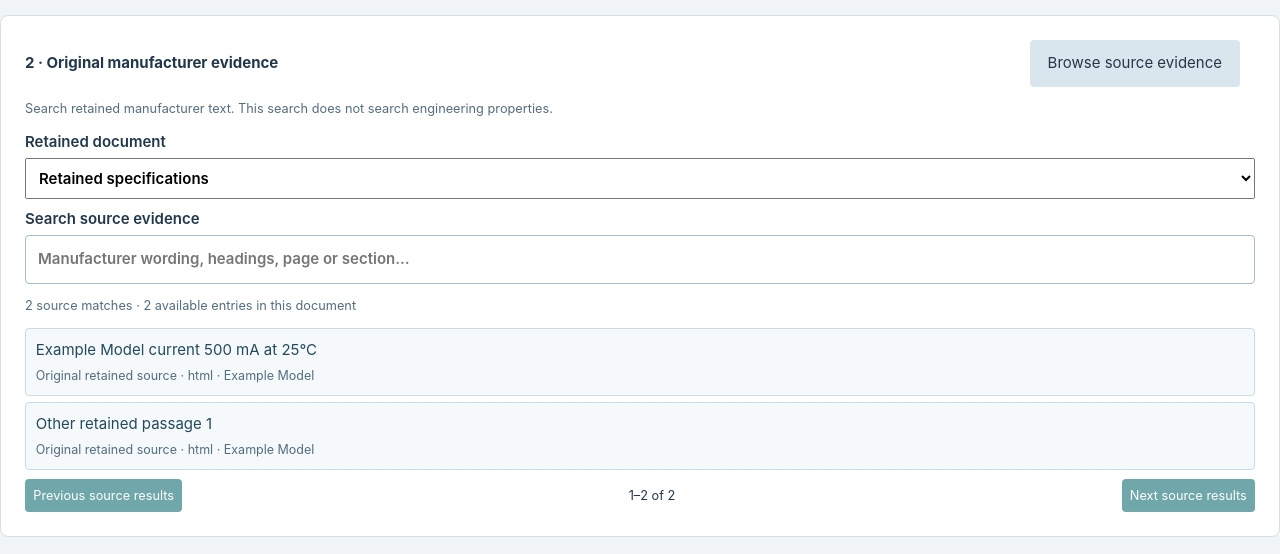
Test: retained source navigator › searches the selected document and shows positive and empty source-specific results
Check: the text "2 source matches · 2 available entries in this document" is shown, box [25,298,356,313]
Type "500 mA" into the search field labelled "Search source evidence" at (640,259), box [25,235,1255,284]
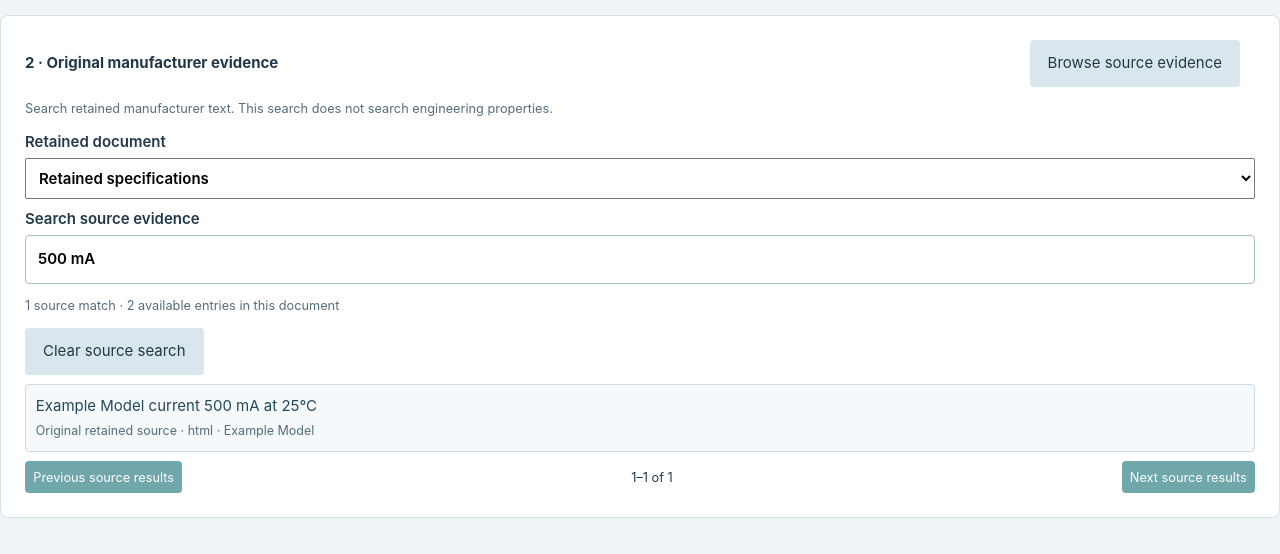
Check: the text "1 source match · 2 available entries in this document" is shown, box [25,298,339,313]
Replace the text in the search field labelled "Search source evidence" with "no such text" at (640,259), box [25,235,1255,284]
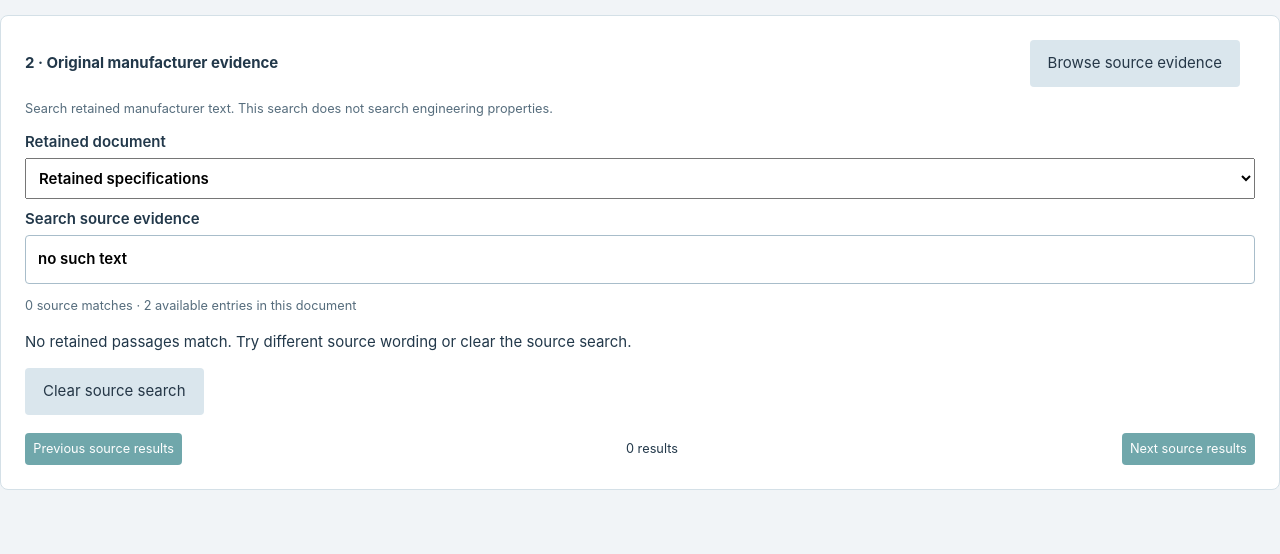
Check: the text "No retained passages match" is shown, box [25,332,632,350]
Check: the button "Example Model current" is gone
